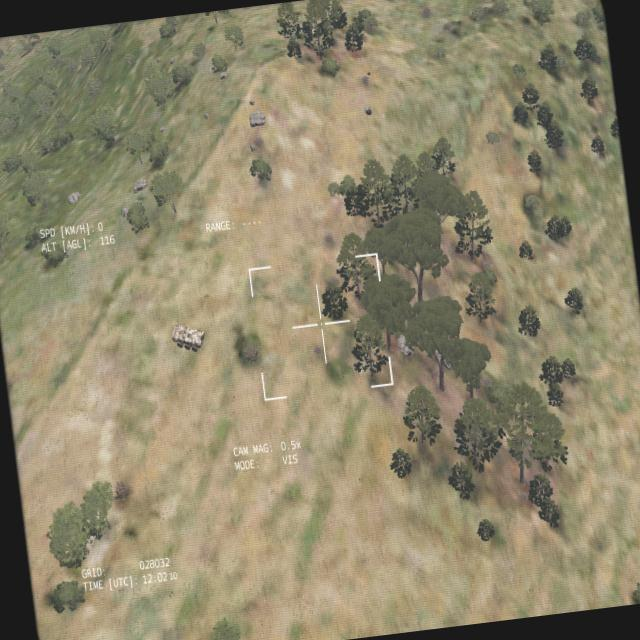apc: (170, 321, 204, 355)
